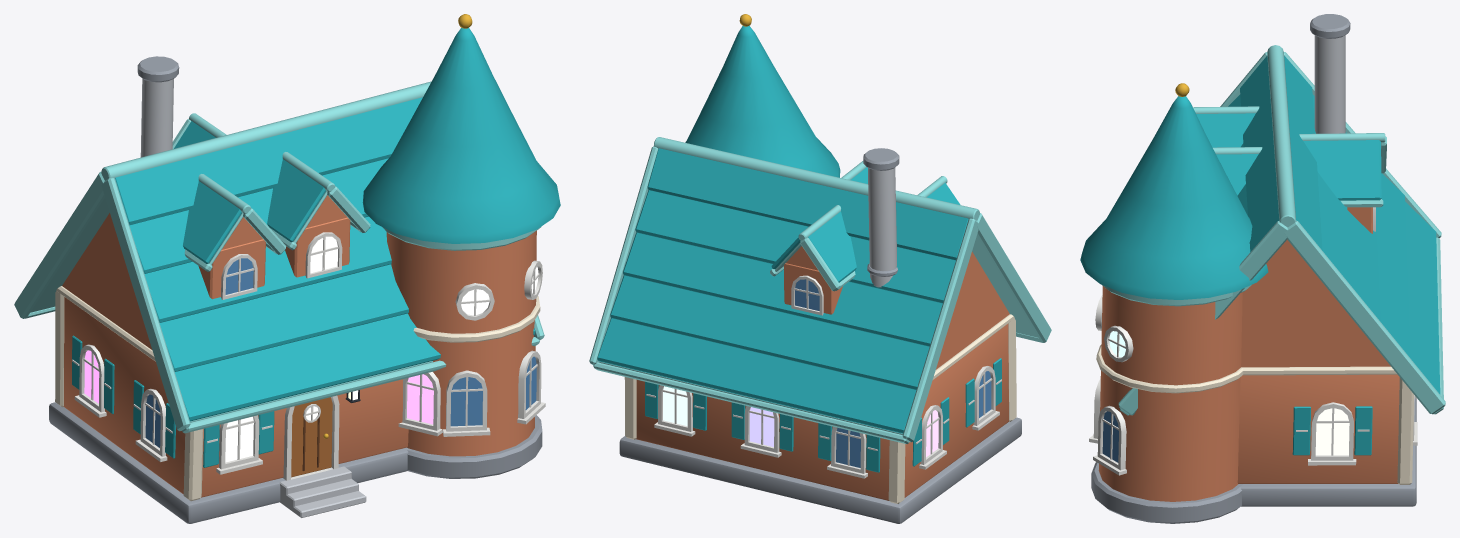
File: casa_torta_torreao_turquesa.glb
3 renders of one model, left to right at view 1: azimuth 30°, elevation 25°; view 2: azimuth 150°, elevation 25°; view 3: azimuth 270°, elevation 25°, orthographic. The views are drawn at different scales.
Parts seen in each view (by area): view 1: casa_torta_torreao_turquesa; view 2: casa_torta_torreao_turquesa; view 3: casa_torta_torreao_turquesa.
Part boxes in pixels (x1,y1,x2,y2): casa_torta_torreao_turquesa: [14, 14, 560, 523]; casa_torta_torreao_turquesa: [589, 14, 1051, 523]; casa_torta_torreao_turquesa: [1080, 14, 1445, 523].
Bounding box in the file's own units: 12.11 × 12.31 × 9.89.
Materials: 7 (1 with a texture image).
